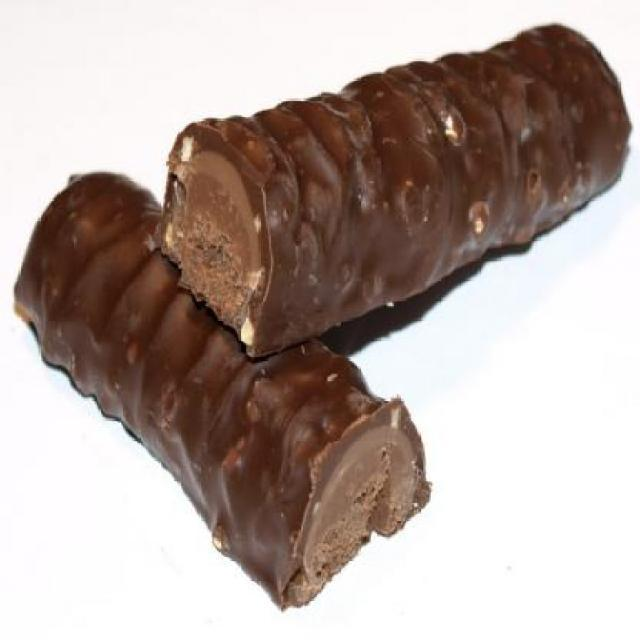Chocolate bar packaged: (10, 167, 435, 618), (149, 20, 634, 360)
